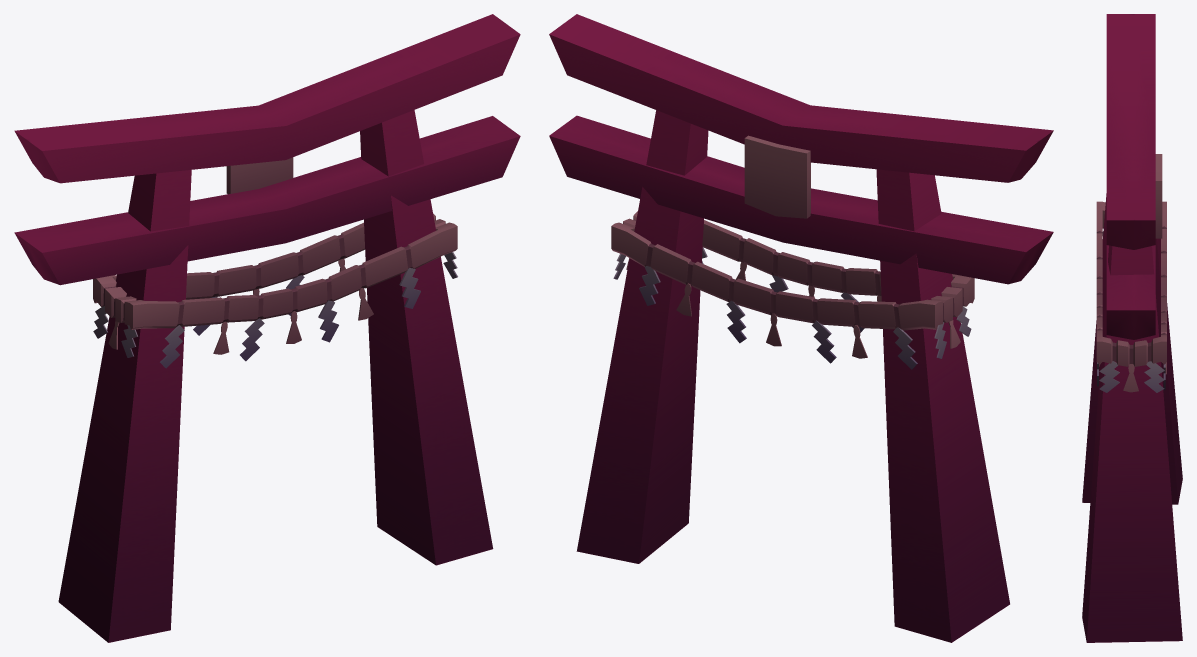
The model's file is Portal.fbx.
The picture shows the model from 3 angles, left to right: view 1: azimuth 30°, elevation 25°; view 2: azimuth 150°, elevation 25°; view 3: azimuth 270°, elevation 25°; orthographic projection. The views are drawn at different scales.
Visible parts, largest first — view 1: polySurface2; view 2: polySurface2; view 3: polySurface2.
Part boxes in pixels (x1,y1,x2,y2): polySurface2: (14,14,520,642); polySurface2: (549,14,1053,642); polySurface2: (1082,14,1182,642).
Bounding box in the file's own units: 7.8 × 7.75 × 1.61.
